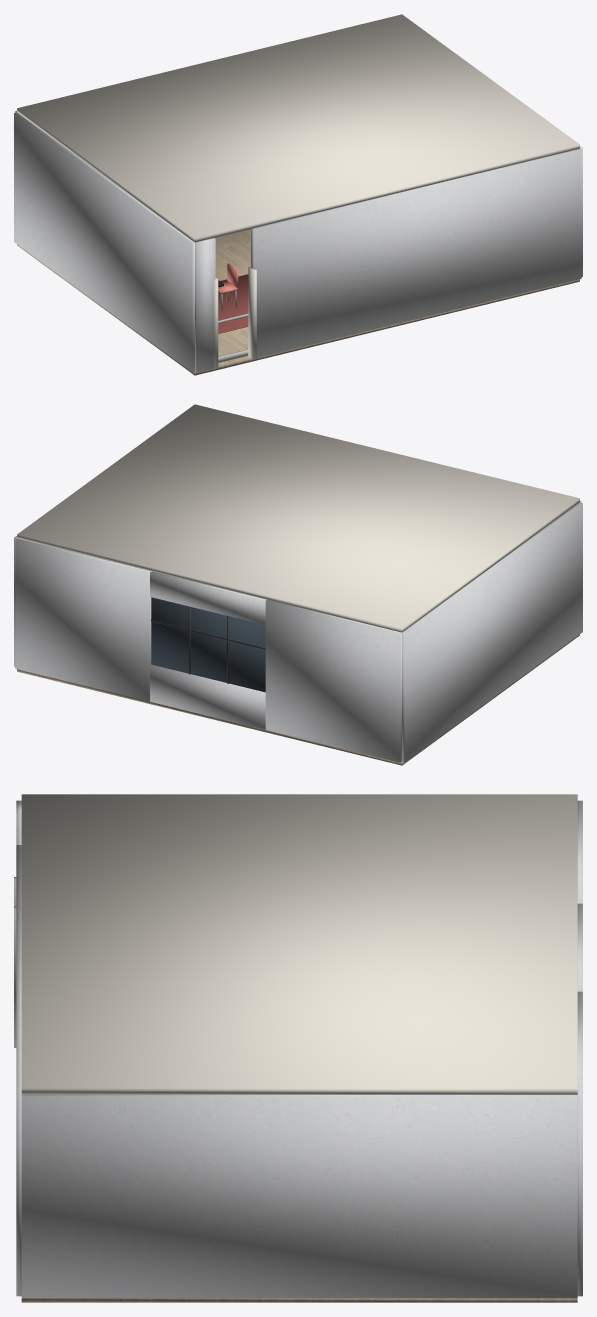
File: r3d_place_room.glb
3 views of the same model, one above another, from view 1: azimuth 30°, elevation 25°; view 2: azimuth 150°, elevation 25°; view 3: azimuth 270°, elevation 25° (orthographic). The views are drawn at different scales.
Parts seen in each view (by area): view 1: ceiling, wall_front, wall_left, floor, wall_front_end, detail_trim, detail_rug; view 2: ceiling, wall_left, wall_back, wall_back_2, window, wall_back_low, wall_back_high, floor, detail_dark; view 3: ceiling, wall_right, floor, wall_front, wall_back_2.
Part boxes in pixels (box(x1,y1,x2,y2)): ceiling: box(17, 14, 579, 242); wall_front: box(251, 148, 581, 357); wall_left: box(14, 112, 194, 372); floor: box(17, 229, 579, 375); wall_front_end: box(195, 238, 215, 372); detail_trim: box(214, 229, 256, 368); detail_rug: box(218, 274, 248, 333); ceiling: box(17, 404, 579, 632); wall_left: box(402, 502, 582, 762); wall_back: box(265, 599, 401, 762); wall_back_2: box(15, 538, 151, 701); window: box(151, 597, 265, 692); wall_back_low: box(150, 664, 265, 729); wall_back_high: box(150, 571, 266, 624); floor: box(17, 634, 579, 765); detail_dark: box(151, 606, 265, 683); ceiling: box(21, 794, 577, 1094); wall_right: box(21, 1094, 577, 1298); floor: box(21, 1298, 577, 1302); wall_front: box(16, 845, 21, 1296); wall_back_2: box(577, 991, 582, 1296).
Size of what is drawn, in the model's own units: 10.15 by 3.4 by 8.19.
17 materials, 3 textured.
